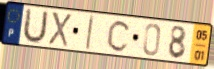0: (142, 22, 162, 57)
8: (168, 24, 189, 61)
C: (106, 19, 133, 54)
I: (84, 14, 96, 52)
U: (20, 6, 50, 45)
X: (47, 10, 73, 48)
